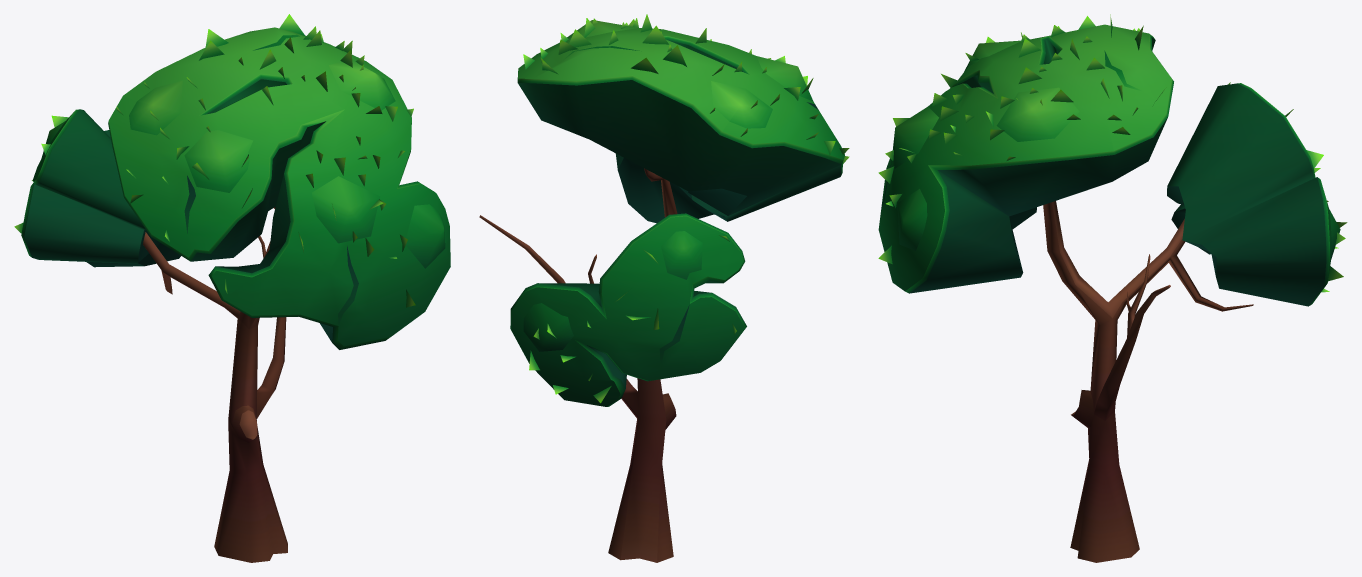
Rendered from Tree_2B.fbx.
The picture shows the model from 3 angles, left to right: view 1: azimuth 30°, elevation 25°; view 2: azimuth 150°, elevation 25°; view 3: azimuth 270°, elevation 25°; orthographic projection.
Parts seen in each view (by area): view 1: Tree_2B; view 2: Tree_2B; view 3: Tree_2B.
Part boxes in pixels (x1,y1,x2,y2): Tree_2B: [14, 14, 450, 562]; Tree_2B: [479, 14, 849, 562]; Tree_2B: [878, 14, 1347, 562].
Size of the model in its own units: 599 by 993 by 820.
